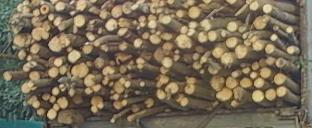medium: (72, 63, 89, 78), (59, 109, 76, 124), (30, 27, 49, 40), (19, 81, 34, 97), (48, 36, 62, 52), (176, 35, 192, 49), (211, 76, 225, 91), (217, 87, 231, 102), (118, 18, 135, 30), (188, 5, 202, 19), (234, 45, 247, 60), (274, 73, 287, 87), (60, 32, 72, 47), (111, 6, 124, 19), (253, 16, 266, 29), (115, 81, 126, 96), (74, 15, 87, 27), (252, 90, 265, 102), (88, 96, 102, 107), (68, 50, 80, 62), (58, 96, 70, 108), (265, 89, 277, 101), (105, 19, 118, 30), (156, 76, 169, 87), (29, 71, 40, 83), (47, 109, 58, 121), (84, 75, 95, 87), (222, 53, 233, 65), (226, 77, 237, 89), (157, 90, 170, 100), (162, 57, 173, 68), (167, 83, 178, 94), (200, 20, 211, 31), (83, 43, 93, 55), (240, 78, 252, 88), (225, 38, 237, 48), (155, 48, 163, 62), (77, 1, 87, 12), (124, 3, 134, 14), (149, 35, 160, 45), (234, 87, 244, 98), (276, 86, 286, 97), (260, 68, 271, 78), (163, 43, 172, 55), (210, 49, 222, 58), (32, 17, 42, 27), (30, 44, 40, 54), (227, 22, 237, 32), (55, 2, 66, 11), (48, 68, 59, 77), (95, 58, 104, 69), (253, 41, 262, 52), (18, 49, 27, 59), (185, 85, 195, 94), (254, 78, 263, 88), (275, 58, 285, 67), (265, 44, 274, 54), (287, 45, 297, 54), (43, 20, 51, 31), (161, 33, 172, 41), (40, 5, 49, 14), (103, 67, 113, 75), (117, 28, 127, 36), (134, 39, 142, 49), (160, 66, 170, 74), (199, 33, 207, 43), (185, 77, 196, 84), (73, 96, 82, 104), (149, 20, 157, 29), (188, 21, 197, 29), (266, 57, 274, 66), (263, 5, 271, 14), (250, 2, 258, 11), (181, 97, 188, 107), (209, 32, 216, 42), (119, 43, 127, 51), (162, 17, 170, 25), (32, 9, 41, 16), (101, 45, 110, 52), (55, 58, 62, 66), (60, 66, 67, 74), (87, 33, 95, 40), (142, 32, 149, 40), (180, 26, 187, 34), (252, 62, 259, 70), (259, 60, 267, 67), (148, 15, 157, 21), (119, 65, 126, 72), (188, 30, 195, 37), (194, 63, 201, 70), (136, 58, 143, 64), (177, 11, 184, 17), (193, 54, 199, 61), (188, 0, 194, 6), (94, 40, 99, 47), (138, 65, 143, 70)
small: (2, 71, 12, 81), (130, 104, 139, 113), (144, 99, 153, 108), (208, 66, 217, 75), (22, 63, 30, 73), (53, 17, 61, 26), (27, 61, 36, 69), (28, 97, 37, 105), (36, 108, 44, 117), (52, 103, 60, 112), (93, 85, 102, 93), (100, 11, 109, 19), (91, 107, 99, 115), (58, 23, 66, 30), (42, 93, 50, 100), (52, 87, 59, 95), (84, 88, 92, 95), (113, 101, 120, 109), (242, 68, 250, 75), (251, 35, 257, 44), (59, 84, 66, 91), (112, 94, 119, 101), (138, 17, 146, 23), (48, 13, 54, 20), (33, 102, 40, 108), (49, 96, 56, 102), (69, 89, 75, 96), (98, 104, 104, 111), (121, 100, 127, 107), (140, 22, 147, 28), (200, 57, 206, 64), (251, 72, 258, 78), (272, 26, 279, 32), (271, 34, 278, 40), (244, 39, 251, 45), (103, 77, 108, 85), (26, 55, 32, 61), (125, 82, 131, 88), (97, 28, 103, 34), (150, 7, 156, 13), (286, 27, 292, 33), (212, 102, 219, 107), (232, 72, 239, 77), (238, 27, 245, 32), (67, 46, 72, 52), (90, 19, 95, 25), (89, 7, 95, 12), (174, 55, 179, 61), (157, 9, 163, 14), (160, 1, 166, 6), (221, 31, 226, 37), (110, 119, 115, 124), (123, 94, 128, 99), (127, 66, 132, 71), (144, 8, 149, 13), (135, 90, 140, 94), (231, 102, 236, 106), (128, 117, 132, 121), (141, 82, 145, 86), (109, 83, 113, 87), (134, 66, 138, 70), (111, 61, 115, 65), (200, 70, 204, 74), (242, 34, 246, 38), (71, 12, 75, 15), (130, 61, 134, 64), (134, 21, 137, 25), (151, 30, 155, 33), (175, 51, 179, 54), (241, 64, 245, 67), (137, 27, 140, 30), (157, 32, 160, 35)
